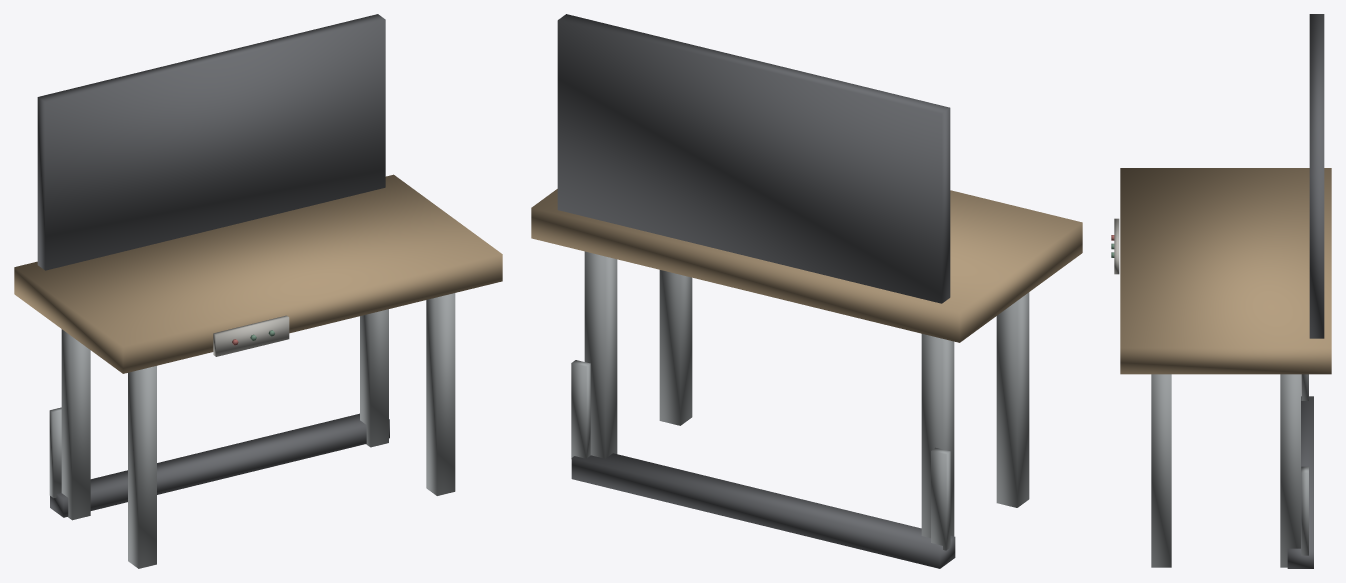
Rendered from basement_workbench__reinforced.glb.
The picture shows the model from 3 angles, left to right: view 1: azimuth 30°, elevation 25°; view 2: azimuth 150°, elevation 25°; view 3: azimuth 270°, elevation 25°; orthographic projection. The views are drawn at different scales.
Parts seen in each view (by area): view 1: world; view 2: world; view 3: world.
Boxes of the visible parts, <box> form: world: <box>14,14,502,568</box>; world: <box>531,14,1082,568</box>; world: <box>1111,14,1331,568</box>.
Bounding box in the file's own units: 1.49 × 1.54 × 0.7735.
